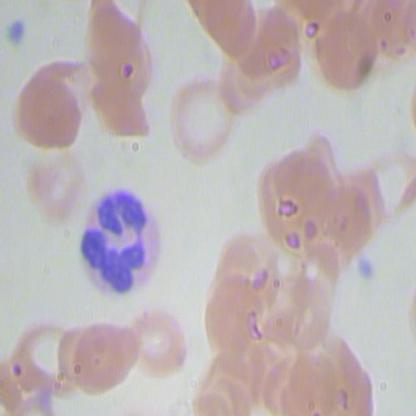Platelets: (1, 16, 29, 53), (356, 254, 379, 281)
RBC: (159, 75, 240, 172), (245, 148, 326, 245), (8, 66, 94, 155), (308, 2, 383, 96), (85, 67, 161, 149), (72, 1, 148, 82), (233, 1, 308, 82), (78, 310, 144, 398), (271, 263, 337, 351), (54, 309, 120, 396), (315, 171, 381, 258), (127, 300, 192, 387), (10, 309, 75, 396), (202, 268, 267, 355), (31, 143, 91, 224), (317, 339, 373, 415)
WBC: (70, 184, 176, 301)
